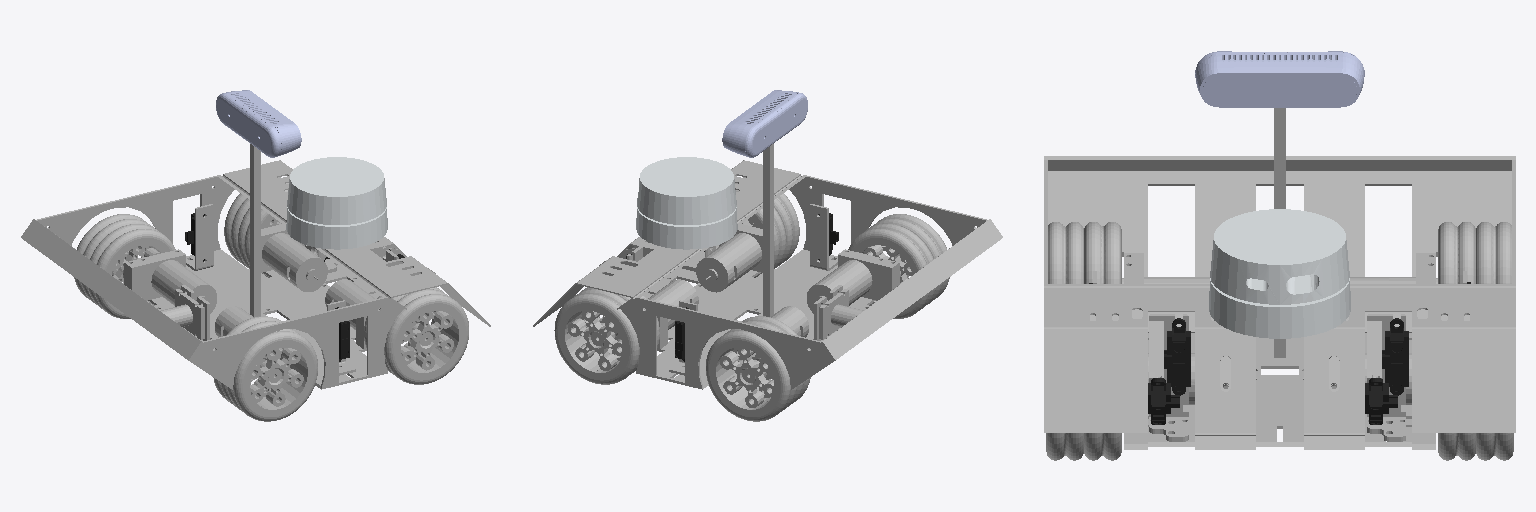
The robot description file, URDF, robot "realsense_model":
<?xml version="1.0" encoding="utf-8"?>
<!-- This URDF was automatically created by SolidWorks to URDF Exporter! Originally created by [author] ([email redacted]) 
     Commit Version: 1.6.0-1-g15f4949  Build Version: 1.6.7594.29634
     For more information, please see http://wiki.ros.org/sw_urdf_exporter -->
<robot
  name="realsense_model">
  <link
    name="base_link">
    <inertial>
      <origin
        xyz="0.0116131901255925 -1.57140263189205E-05 0.0231234978328491"
        rpy="0 0 0" />
      <mass
        value="2.25316305620807" />
      <inertia
        ixx="0.0078996915795823"
        ixy="1.5948154535386E-07"
        ixz="0.000733932077942135"
        iyy="0.00653334697972714"
        iyz="2.90926203156689E-07"
        izz="0.0130391385444765" />
    </inertial>
    <visual>
      <origin
        xyz="0 0 0"
        rpy="0 0 0" />
      <geometry>
        <mesh
          filename="package://realsense_model/meshes/base_link.STL" />
      </geometry>
      <material
        name="">
        <color
          rgba="0.752941176470588 0.752941176470588 0.752941176470588 1" />
      </material>
    </visual>
    <collision>
      <origin
        xyz="0 0 0"
        rpy="0 0 0" />
      <geometry>
        <mesh
          filename="package://realsense_model/meshes/base_link.STL" />
      </geometry>
    </collision>
  </link>
<!--  <joint-->
<!--    name="LB_wheel_joint"-->
<!--    type="continuous">-->
<!--    <origin-->
<!--      xyz="-0.051575 0.1185 0.017"-->
<!--      rpy="0 0 0" />-->
<!--    <parent-->
<!--      link="base_link" />-->
<!--    <child-->
<!--      link="LB_wheel_link" />-->
<!--    <axis-->
<!--      xyz="0 -1 0" />-->
<!--  </joint>-->
  <link
    name="RF_wheel_link">
    <inertial>
      <origin
        xyz="0 0.0144155178676929 1.73472347597681E-17"
        rpy="0 0 0" />
      <mass
        value="0.12660325610778" />
      <inertia
        ixx="5.54515308491946E-05"
        ixy="9.84379798980043E-21"
        ixz="5.09231983123961E-20"
        iyy="0.000103691650811599"
        iyz="2.66432880133216E-21"
        izz="5.54515308491945E-05" />
    </inertial>
    <visual>
      <origin
        xyz="0 0 0"
        rpy="0 0 0" />
      <geometry>
        <mesh
          filename="package://realsense_model/meshes/RF_wheel_link.STL" />
      </geometry>
      <material
        name="">
        <color
          rgba="0.752941176470588 0.752941176470588 0.752941176470588 1" />
      </material>
    </visual>
    <collision>
      <origin
        xyz="0 0 0"
        rpy="0 0 0" />
      <geometry>
        <mesh
          filename="package://realsense_model/meshes/RF_wheel_link.STL" />
      </geometry>
    </collision>
  </link>
  <joint
    name="RF_wheel_joint"
    type="continuous">
    <origin
      xyz="0.0784235230362508 -0.1185 0.017"
      rpy="0 0 0" />
    <parent
      link="base_link" />
    <child
      link="RF_wheel_link" />
    <axis
      xyz="0 1 0" />
  </joint>
  <link
    name="RB_wheel_link">
    <inertial>
      <origin
        xyz="1.38777878078145E-17 0.014415517867693 1.38777878078145E-17"
        rpy="0 0 0" />
      <mass
        value="0.12660325610778" />
      <inertia
        ixx="5.54515308491959E-05"
        ixy="6.63058458826911E-21"
        ixz="4.71876139039577E-20"
        iyy="0.000103691650811599"
        iyz="6.87743609523725E-21"
        izz="5.54515308491959E-05" />
    </inertial>
    <visual>
      <origin
        xyz="0 0 0"
        rpy="0 0 0" />
      <geometry>
        <mesh
          filename="package://realsense_model/meshes/RB_wheel_link.STL" />
      </geometry>
      <material
        name="">
        <color
          rgba="0.752941176470588 0.752941176470588 0.752941176470588 1" />
      </material>
    </visual>
    <collision>
      <origin
        xyz="0 0 0"
        rpy="0 0 0" />
      <geometry>
        <mesh
          filename="package://realsense_model/meshes/RB_wheel_link.STL" />
      </geometry>
    </collision>
  </link>
  <joint
    name="RB_wheel_joint"
    type="continuous">
    <origin
      xyz="-0.0515749621984941 -0.1185 0.0170000000000001"
      rpy="0 0 0" />
    <parent
      link="base_link" />
    <child
      link="RB_wheel_link" />
    <axis
      xyz="0 1 0" />
  </joint>
  <link
    name="LF_wheel_link">
    <inertial>
      <origin
        xyz="0 -0.0144155178676928 0"
        rpy="0 0 0" />
      <mass
        value="0.12660325610778" />
      <inertia
        ixx="5.54515308491946E-05"
        ixy="1.11476514306387E-20"
        ixz="3.62879840829918E-20"
        iyy="0.000103691650811599"
        iyz="-6.57532575546988E-22"
        izz="5.54515308491945E-05" />
    </inertial>
    <visual>
      <origin
        xyz="0 0 0"
        rpy="0 0 0" />
      <geometry>
        <mesh
          filename="package://realsense_model/meshes/LF_wheel_link.STL" />
      </geometry>
      <material
        name="">
        <color
          rgba="0.752941176470588 0.752941176470588 0.752941176470588 1" />
      </material>
    </visual>
    <collision>
      <origin
        xyz="0 0 0"
        rpy="0 0 0" />
      <geometry>
        <mesh
          filename="package://realsense_model/meshes/LF_wheel_link.STL" />
      </geometry>
    </collision>
  </link>
  <joint
    name="LF_wheel_joint"
    type="continuous">
    <origin
      xyz="0.0784235230362503 0.1185 0.017"
      rpy="0 0 0" />
    <parent
      link="base_link" />
    <child
      link="LF_wheel_link" />
    <axis
      xyz="0 1 0" />
  </joint>
  <link
    name="LB_wheel_link">
    <inertial>
      <origin
        xyz="-2.7756E-17 -0.014416 -6.9389E-18"
        rpy="0 0 0" />
      <mass
        value="0.1266" />
      <inertia
        ixx="5.5452E-05"
        ixy="1.1269E-20"
        ixz="5.0074E-20"
        iyy="0.00010369"
        iyz="-9.8798E-22"
        izz="5.5452E-05" />
    </inertial>
    <visual>
      <origin
        xyz="0 0 0"
        rpy="0 0 0" />
      <geometry>
        <mesh
          filename="package://realsense_model/meshes/LB_wheel_link.STL" />
      </geometry>
      <material
        name="">
        <color
          rgba="0.75294 0.75294 0.75294 1" />
      </material>
    </visual>
    <collision>
      <origin
        xyz="0 0 0"
        rpy="0 0 0" />
      <geometry>
        <mesh
          filename="package://realsense_model/meshes/LB_wheel_link.STL" />
      </geometry>
    </collision>
  </link>
  <joint
    name="LB_wheel_joint"
    type="continuous">
    <origin
      xyz="-0.0515749621984946 0.1185 0.017"
      rpy="0 0 0" />
    <parent
      link="base_link" />
    <child
      link="LB_wheel_link" />
    <axis
      xyz="0 -1 0" />
  </joint>
  <link
    name="camera_link">
    <inertial>
      <origin
        xyz="-0.0202903257890848 -5.38506170229657E-18 0"
        rpy="0 0 0" />
      <mass
        value="0.074292004386588" />
      <inertia
        ixx="6.25164561595021E-06"
        ixy="1.09511061769881E-22"
        ixz="-1.05356711406204E-22"
        iyy="9.60171917646479E-06"
        iyz="-1.04762747697268E-22"
        izz="1.14159968448672E-05" />
    </inertial>
    <visual>
      <origin
        xyz="0 0 0"
        rpy="0 0 0" />
      <geometry>
        <mesh
          filename="package://realsense_model/meshes/camera_link.STL" />
      </geometry>
      <material
        name="">
        <color
          rgba="0.752941176470588 0.752941176470588 0.752941176470588 1" />
      </material>
    </visual>
    <collision>
      <origin
        xyz="0 0 0"
        rpy="0 0 0" />
      <geometry>
        <mesh
          filename="package://realsense_model/meshes/camera_link.STL" />
      </geometry>
    </collision>
  </link>
  <joint
    name="camera_joint"
    type="fixed">
    <origin
      xyz="-0.0854500682801336 0 0.021"
      rpy="0 0 3.14159265358979" />
    <parent
      link="base_link" />
    <child
      link="camera_link" />
    <axis
      xyz="0 0 0" />
  </joint>
  <link
    name="R_range_link">
    <inertial>
      <origin
        xyz="-0.00811934334227205 -0.000188378653789041 -0.0109796493363324"
        rpy="0 0 0" />
      <mass
        value="0.00426614745709291" />
      <inertia
        ixx="4.07348519263311E-07"
        ixy="-1.07222949743685E-10"
        ixz="-6.31099022040221E-10"
        iyy="4.07971772782717E-07"
        iyz="-1.64673276878808E-11"
        izz="1.07995575989039E-07" />
    </inertial>
    <visual>
      <origin
        xyz="0 0 0"
        rpy="0 0 0" />
      <geometry>
        <mesh
          filename="package://realsense_model/meshes/R_range_link.STL" />
      </geometry>
      <material
        name="">
        <color
          rgba="0.180392156862745 0.180392156862745 0.180392156862745 1" />
      </material>
    </visual>
    <collision>
      <origin
        xyz="0 0 0"
        rpy="0 0 0" />
      <geometry>
        <mesh
          filename="package://realsense_model/meshes/R_range_link.STL" />
      </geometry>
    </collision>
  </link>
  <joint
    name="R_range_joint"
    type="fixed">
    <origin
      xyz="0.0127112996311823 -0.1125 0.0392366"
      rpy="0 0 -1.5707963267949" />
    <parent
      link="base_link" />
    <child
      link="R_range_link" />
    <axis
      xyz="0 0 0" />
  </joint>
  <link
    name="L_range_link">
    <inertial>
      <origin
        xyz="-0.0070193 0.00018838 -0.010032"
        rpy="0 0 0" />
      <mass
        value="0.0042661" />
      <inertia
        ixx="4.0735E-07"
        ixy="1.0722E-10"
        ixz="6.311E-10"
        iyy="4.0797E-07"
        iyz="-1.6467E-11"
        izz="1.08E-07" />
    </inertial>
    <visual>
      <origin
        xyz="0 0 0"
        rpy="0 0 0" />
      <geometry>
        <mesh
          filename="package://realsense_model/meshes/L_range_link.STL" />
      </geometry>
      <material
        name="">
        <color
          rgba="0.18039 0.18039 0.18039 1" />
      </material>
    </visual>
    <collision>
      <origin
        xyz="0 0 0"
        rpy="0 0 0" />
      <geometry>
        <mesh
          filename="package://realsense_model/meshes/L_range_link.STL" />
      </geometry>
    </collision>
  </link>
  <joint
    name="L_range_joint"
    type="fixed">
    <origin
      xyz="0.0123868089774774 0.1114 0.0382478433671816"
      rpy="0 0 1.5707963267949" />
    <parent
      link="base_link" />
    <child
      link="L_range_link" />
    <axis
      xyz="0 0 0" />
  </joint>
  <link
    name="RF_range_link">
    <inertial>
      <origin
        xyz="-0.00731934334227206 -0.000188378653789074 -0.0109796493363324"
        rpy="0 0 0" />
      <mass
        value="0.00426614745709292" />
      <inertia
        ixx="4.07348519263312E-07"
        ixy="-1.07222949743676E-10"
        ixz="-6.3109902204026E-10"
        iyy="4.07971772782718E-07"
        iyz="-1.64673276880123E-11"
        izz="1.07995575989039E-07" />
    </inertial>
    <visual>
      <origin
        xyz="0 0 0"
        rpy="0 0 0" />
      <geometry>
        <mesh
          filename="package://realsense_model/meshes/RF_range_link.STL" />
      </geometry>
      <material
        name="">
        <color
          rgba="0.180392156862745 0.180392156862745 0.180392156862745 1" />
      </material>
    </visual>
    <collision>
      <origin
        xyz="0 0 0"
        rpy="0 0 0" />
      <geometry>
        <mesh
          filename="package://realsense_model/meshes/RF_range_link.STL" />
      </geometry>
    </collision>
  </link>
  <joint
    name="RF_range_joint"
    type="fixed">
    <origin
      xyz="0.095464280418878 -0.0534999999999997 0.0515"
      rpy="0 0 0" />
    <parent
      link="base_link" />
    <child
      link="RF_range_link" />
    <axis
      xyz="0 0 0" />
  </joint>
  <link
    name="RB_range_link">
    <inertial>
      <origin
        xyz="-0.00701934334227206 0.000188378653789081 -0.0100315940308492"
        rpy="0 0 0" />
      <mass
        value="0.00426614745709292" />
      <inertia
        ixx="4.07348519263312E-07"
        ixy="1.07222949743646E-10"
        ixz="6.31099022040137E-10"
        iyy="4.07971772782718E-07"
        iyz="-1.64673276880053E-11"
        izz="1.07995575989039E-07" />
    </inertial>
    <visual>
      <origin
        xyz="0 0 0"
        rpy="0 0 0" />
      <geometry>
        <mesh
          filename="package://realsense_model/meshes/RB_range_link.STL" />
      </geometry>
      <material
        name="">
        <color
          rgba="0.180392156862745 0.180392156862745 0.180392156862745 1" />
      </material>
    </visual>
    <collision>
      <origin
        xyz="0 0 0"
        rpy="0 0 0" />
      <geometry>
        <mesh
          filename="package://realsense_model/meshes/RB_range_link.STL" />
      </geometry>
    </collision>
  </link>
  <joint
    name="RB_range_joint"
    type="fixed">
    <origin
      xyz="0.114521325155332 -0.0644999999999997 0.0252207965630269"
      rpy="0 0.785398163397454 0" />
    <parent
      link="base_link" />
    <child
      link="RB_range_link" />
    <axis
      xyz="0 0 0" />
  </joint>
  <link
    name="LF_range_link">
    <inertial>
      <origin
        xyz="-0.00811934334227206 -0.000188378653789067 -0.0109796493363324"
        rpy="0 0 0" />
      <mass
        value="0.00426614745709292" />
      <inertia
        ixx="4.07348519263312E-07"
        ixy="-1.07222949743721E-10"
        ixz="-6.31099022040278E-10"
        iyy="4.07971772782718E-07"
        iyz="-1.64673276879931E-11"
        izz="1.07995575989039E-07" />
    </inertial>
    <visual>
      <origin
        xyz="0 0 0"
        rpy="0 0 0" />
      <geometry>
        <mesh
          filename="package://realsense_model/meshes/LF_range_link.STL" />
      </geometry>
      <material
        name="">
        <color
          rgba="0.180392156862745 0.180392156862745 0.180392156862745 1" />
      </material>
    </visual>
    <collision>
      <origin
        xyz="0 0 0"
        rpy="0 0 0" />
      <geometry>
        <mesh
          filename="package://realsense_model/meshes/LF_range_link.STL" />
      </geometry>
    </collision>
  </link>
  <joint
    name="LF_range_joint"
    type="fixed">
    <origin
      xyz="0.0962642804188774 0.0620922441262945 0.0515"
      rpy="0 0 0" />
    <parent
      link="base_link" />
    <child
      link="LF_range_link" />
    <axis
      xyz="0 0 0" />
  </joint>
  <link
    name="LB_range_link">
    <inertial>
      <origin
        xyz="-0.0070193 0.00018838 -0.010032"
        rpy="0 0 0" />
      <mass
        value="0.0042661" />
      <inertia
        ixx="4.0735E-07"
        ixy="1.0722E-10"
        ixz="6.311E-10"
        iyy="4.0797E-07"
        iyz="-1.6467E-11"
        izz="1.08E-07" />
    </inertial>
    <visual>
      <origin
        xyz="0 0 0"
        rpy="0 0 0" />
      <geometry>
        <mesh
          filename="package://realsense_model/meshes/LB_range_link.STL" />
      </geometry>
      <material
        name="">
        <color
          rgba="0.18039 0.18039 0.18039 1" />
      </material>
    </visual>
    <collision>
      <origin
        xyz="0 0 0"
        rpy="0 0 0" />
      <geometry>
        <mesh
          filename="package://realsense_model/meshes/LB_range_link.STL" />
      </geometry>
    </collision>
  </link>
  <joint
    name="LB_range_joint"
    type="fixed">
    <origin
      xyz="0.114521325155331 0.0510922441262945 0.0252207965630269"
      rpy="0 0.785398163397454 0" />
    <parent
      link="base_link" />
    <child
      link="LB_range_link" />
    <axis
      xyz="0 0 0" />
  </joint>
  <link
    name="Lidar_link">
    <inertial>
      <origin
        xyz="-0.00068221 -0.00015001 -0.02175"
        rpy="0 0 0" />
      <mass
        value="0.46489" />
      <inertia
        ixx="0.00022831"
        ixy="1.547E-06"
        ixz="3.0807E-06"
        iyy="0.00022265"
        iyz="6.7689E-07"
        izz="0.00031343" />
    </inertial>
    <visual>
      <origin
        xyz="0 0 0"
        rpy="0 0 0" />
      <geometry>
        <mesh
          filename="package://realsense_model/meshes/Lidar_link.STL" />
      </geometry>
      <material
        name="">
        <color
          rgba="0.89804 0.91765 0.92941 1" />
      </material>
    </visual>
    <collision>
      <origin
        xyz="0 0 0"
        rpy="0 0 0" />
      <geometry>
        <mesh
          filename="package://realsense_model/meshes/Lidar_link.STL" />
      </geometry>
    </collision>
  </link>
  <joint
    name="Lidar_Joint"
    type="fixed">
    <origin
      xyz="0.07 0 0.104312324043661"
      rpy="0 0 0" />
    <parent
      link="base_link" />
    <child
      link="Lidar_link" />
    <axis
      xyz="0 0 0" />
  </joint>
  <link
    name="Realsense_link">
    <inertial>
      <origin
        xyz="-0.012548 -0.0022933 -6.0568E-05"
        rpy="0 0 0" />
      <mass
        value="0.044752" />
      <inertia
        ixx="2.7278E-05"
        ixy="2.4434E-07"
        ixz="-1.174E-09"
        iyy="3.9447E-06"
        iyz="-2.802E-09"
        izz="2.7362E-05" />
    </inertial>
    <visual>
      <origin
        xyz="0 0 0"
        rpy="0 0 0" />
      <geometry>
        <mesh
          filename="package://realsense_model/meshes/Realsense_link.STL" />
      </geometry>
      <material
        name="">
        <color
          rgba="0.79216 0.81961 0.93333 1" />
      </material>
    </visual>
    <collision>
      <origin
        xyz="0 0 0"
        rpy="0 0 0" />
      <geometry>
        <mesh
          filename="package://realsense_model/meshes/Realsense_link.STL" />
      </geometry>
    </collision>
  </link>
  <joint
    name="Realsense_Joint"
    type="fixed">
    <origin
      xyz="0.01445 0.0025395 0.1645"
      rpy="0 0 0" />
    <parent
      link="base_link" />
    <child
      link="Realsense_link" />
    <axis
      xyz="0 0 0" />
  </joint>
</robot>

--- Facts derived from the render (not from the file) ---
Views: 3 orthographic renders of the robot side by side, from view 1: azimuth 30°, elevation 25°; view 2: azimuth 150°, elevation 25°; view 3: azimuth 270°, elevation 25°.
Robot: realsense_model — 14 links, 13 joints (4 continuous, 9 fixed); root link base_link; default pose: all joints at 0.
Visible links, largest first — view 1: base_link, Lidar_link, RB_wheel_link, RF_wheel_link, LB_wheel_link, Realsense_link, LF_wheel_link, camera_link; view 2: base_link, Lidar_link, LB_wheel_link, LF_wheel_link, RB_wheel_link, Realsense_link, RF_wheel_link, camera_link; view 3: base_link, Lidar_link, Realsense_link, RB_wheel_link, LB_wheel_link, RF_wheel_link, LF_wheel_link, RF_range_link, LF_range_link, LB_range_link, RB_range_link.
Boxes of the visible links, x1,y1,x2,y2 form: base_link: [21, 144, 490, 389]; Lidar_link: [286, 157, 387, 249]; RB_wheel_link: [213, 316, 317, 421]; RF_wheel_link: [364, 287, 468, 384]; LB_wheel_link: [74, 214, 175, 318]; Realsense_link: [216, 90, 301, 157]; LF_wheel_link: [224, 177, 316, 277]; camera_link: [161, 289, 204, 339]; base_link: [533, 144, 1002, 389]; Lidar_link: [636, 157, 737, 249]; LB_wheel_link: [706, 316, 810, 421]; LF_wheel_link: [554, 287, 659, 384]; RB_wheel_link: [848, 214, 949, 318]; Realsense_link: [722, 90, 807, 157]; RF_wheel_link: [735, 177, 799, 277]; camera_link: [819, 289, 863, 339]; base_link: [1044, 108, 1515, 449]; Lidar_link: [1209, 209, 1350, 338]; Realsense_link: [1195, 51, 1364, 107]; RB_wheel_link: [1048, 222, 1121, 283]; LB_wheel_link: [1438, 222, 1511, 283]; RF_wheel_link: [1046, 433, 1121, 460]; LF_wheel_link: [1438, 433, 1513, 460]; RF_range_link: [1164, 318, 1190, 395]; LF_range_link: [1382, 318, 1408, 395]; LB_range_link: [1365, 378, 1397, 424]; RB_range_link: [1148, 378, 1179, 424].
Bounding box of the posed robot: 0.2606 × 0.25 × 0.196 m (x, y, z).
Meshes: 14 distinct files referenced, 14 mesh visuals loaded (14 binary STL).
